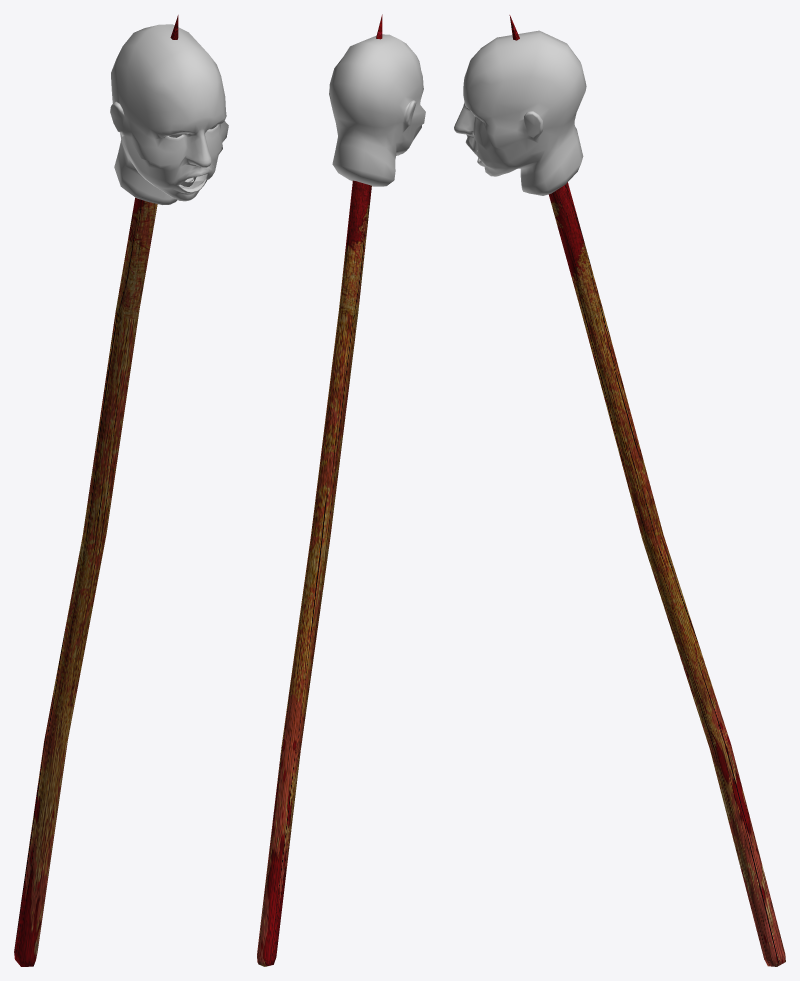
The model's file is severed_exp_02.fbx.
3 renders of one model, left to right at view 1: azimuth 30°, elevation 25°; view 2: azimuth 150°, elevation 25°; view 3: azimuth 270°, elevation 25°, orthographic. The views are drawn at different scales.
Parts seen in each view (by area): view 1: severed_exp_02; view 2: severed_exp_02; view 3: severed_exp_02.
Part boxes in pixels (left/top/right/bottom): severed_exp_02: left=14, top=15, right=228, bottom=966; severed_exp_02: left=257, top=14, right=425, bottom=966; severed_exp_02: left=454, top=15, right=785, bottom=966.
Bounding box in the file's own units: 0.2194 × 2.18 × 0.6862.
